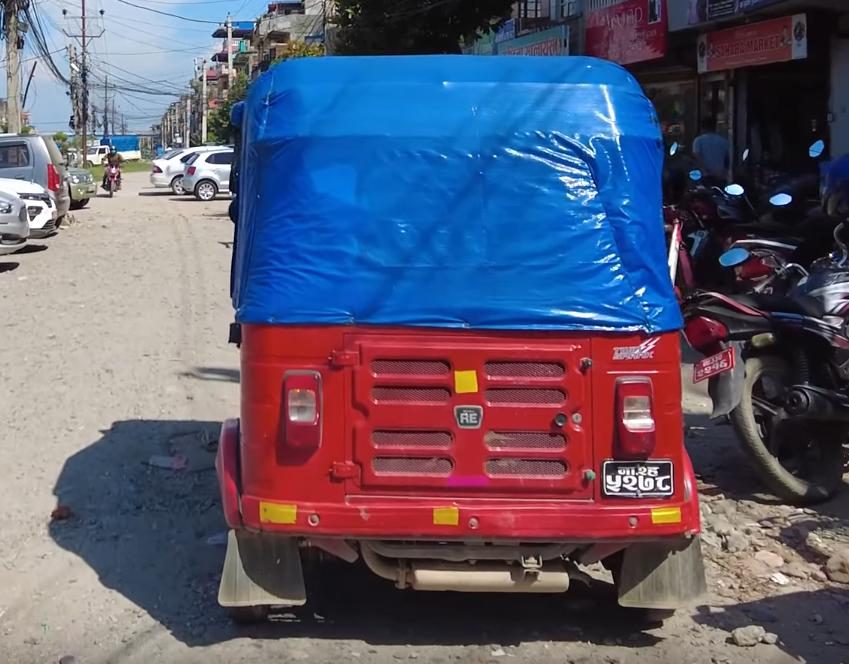auto_rickshaw: (209, 43, 712, 631)
bike: (688, 195, 849, 515)
